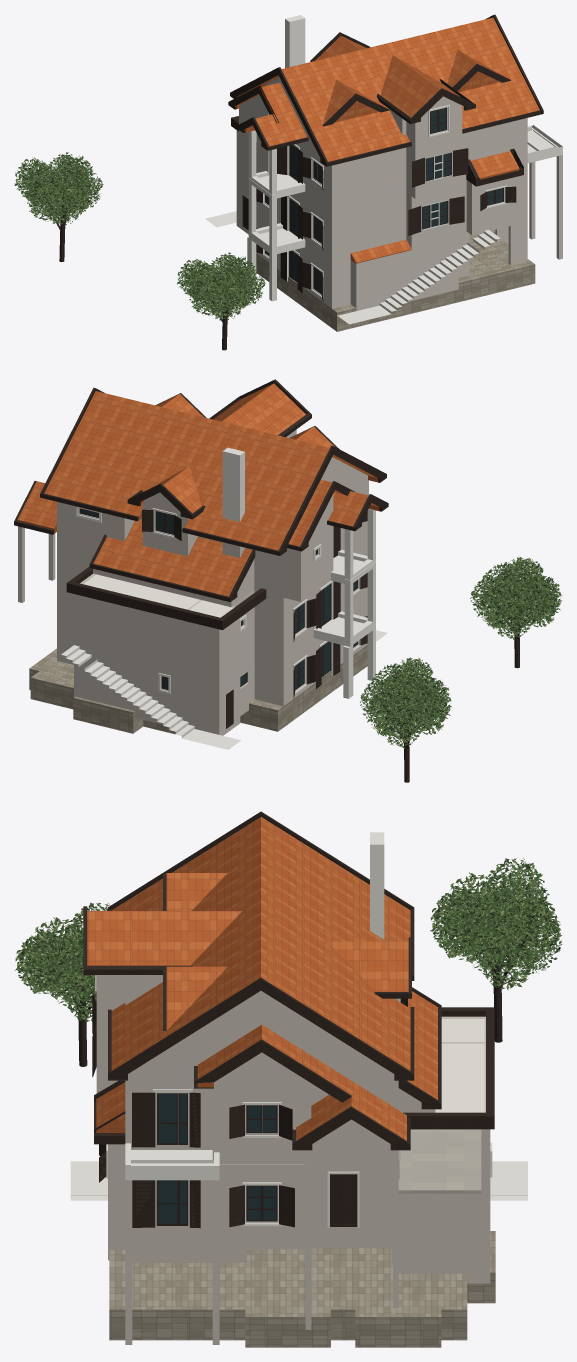
File: context-detail-b31.glb
The picture shows the model from 3 angles, top to bottom: view 1: azimuth 30°, elevation 25°; view 2: azimuth 150°, elevation 25°; view 3: azimuth 270°, elevation 25°; orthographic projection. The views are drawn at different scales.
Visible parts, largest first — view 1: B31 | ÇATII.003, B31 | KAT 1$DUVAR, B31 | KAT 0$DUVAR, B31 | KAT 2$DUVAR, B31 foundation below BK, B31 | ek dalgalar, Individual folded leaves.018, B31 | ÇATI ALIN.002, Individual folded leaves.017, B31 | ek dalgalar.001, B31 | KAT 3$DUVAR, B31 | PENCERE_KAPI$SHUTTER.001 (+12 smaller); view 2: B31 | ÇATII.003, B31 | KAT 1$DUVAR, B31 | KAT 0$DUVAR, B31 | KAT 2$DUVAR, B31 | ÇATII.002, B31 foundation below BK, Individual folded leaves.018, B31 | ek dalgalar, Individual folded leaves.017, B31 | ÇATI ALIN.002, B31 | ÇATI ALIN.001, B31 | ÇATI ALIN (+10 smaller); view 3: B31 | ÇATII.003, B31 foundation below BK, B31 | KAT 1$DUVAR, B31 | KAT 0$DUVAR, B31 | KAT 2$DUVAR, Individual folded leaves.018, B31 | KAT 3$DUVAR, B31 | ÇATI ALIN.002, B31 | ÇATII.002, Individual folded leaves.017, B31 | KAT 1$ZEMİN KAPLAMA, B31 | ÇATI ALIN.001 (+14 smaller).
Boxes of the visible parts, x1,y1,x2,y2 form: B31 | ÇATII.003: [238, 17, 539, 161]; B31 | KAT 1$DUVAR: [236, 130, 527, 264]; B31 | KAT 0$DUVAR: [236, 155, 562, 311]; B31 | KAT 2$DUVAR: [239, 108, 527, 210]; B31 foundation below BK: [256, 230, 535, 331]; B31 | ek dalgalar: [205, 198, 500, 324]; Individual folded leaves.018: [14, 152, 103, 225]; B31 | ÇATI ALIN.002: [229, 14, 543, 163]; Individual folded leaves.017: [177, 252, 265, 320]; B31 | ek dalgalar.001: [248, 125, 562, 300]; B31 | KAT 3$DUVAR: [240, 77, 462, 148]; B31 | PENCERE_KAPI$SHUTTER.001: [256, 186, 516, 250]; B31 | ÇATII.003: [44, 383, 378, 550]; B31 | KAT 1$DUVAR: [18, 526, 367, 682]; B31 | KAT 0$DUVAR: [57, 596, 367, 735]; B31 | KAT 2$DUVAR: [57, 480, 368, 607]; B31 | ÇATII.002: [17, 475, 379, 596]; B31 foundation below BK: [29, 645, 367, 734]; Individual folded leaves.018: [360, 657, 451, 748]; B31 | ek dalgalar: [61, 567, 387, 749]; Individual folded leaves.017: [470, 556, 562, 639]; B31 | ÇATI ALIN.002: [40, 379, 388, 555]; B31 | ÇATI ALIN.001: [14, 474, 388, 602]; B31 | ÇATI ALIN: [66, 566, 266, 630]; B31 | ÇATII.003: [87, 817, 410, 1095]; B31 foundation below BK: [109, 1231, 495, 1347]; B31 | KAT 1$DUVAR: [108, 1016, 490, 1264]; B31 | KAT 0$DUVAR: [108, 1180, 490, 1344]; B31 | KAT 2$DUVAR: [96, 1014, 435, 1164]; Individual folded leaves.018: [430, 858, 561, 990]; B31 | KAT 3$DUVAR: [96, 975, 398, 1083]; B31 | ÇATI ALIN.002: [83, 811, 414, 1096]; B31 | ÇATII.002: [96, 991, 437, 1140]; Individual folded leaves.017: [14, 902, 109, 1021]; B31 | KAT 1$ZEMİN KAPLAMA: [398, 1129, 481, 1192]; B31 | ÇATI ALIN.001: [94, 908, 441, 1150].
Bounding box in the file's own units: 26.97 × 14.71 × 19.17.
Materials: 12 (12 with a texture image).
